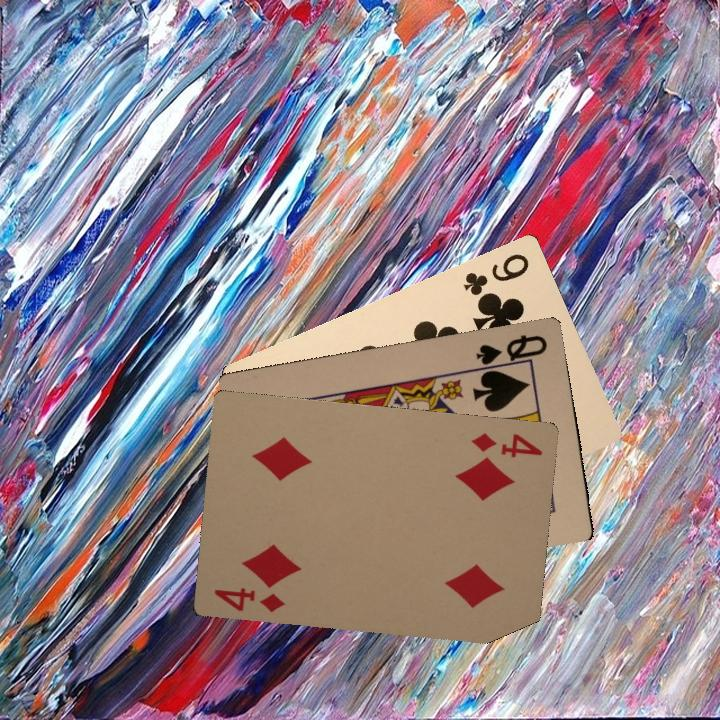4d: (210, 583, 287, 615), (467, 429, 545, 460)
9c: (458, 249, 532, 302)
Qs: (472, 331, 550, 373)
